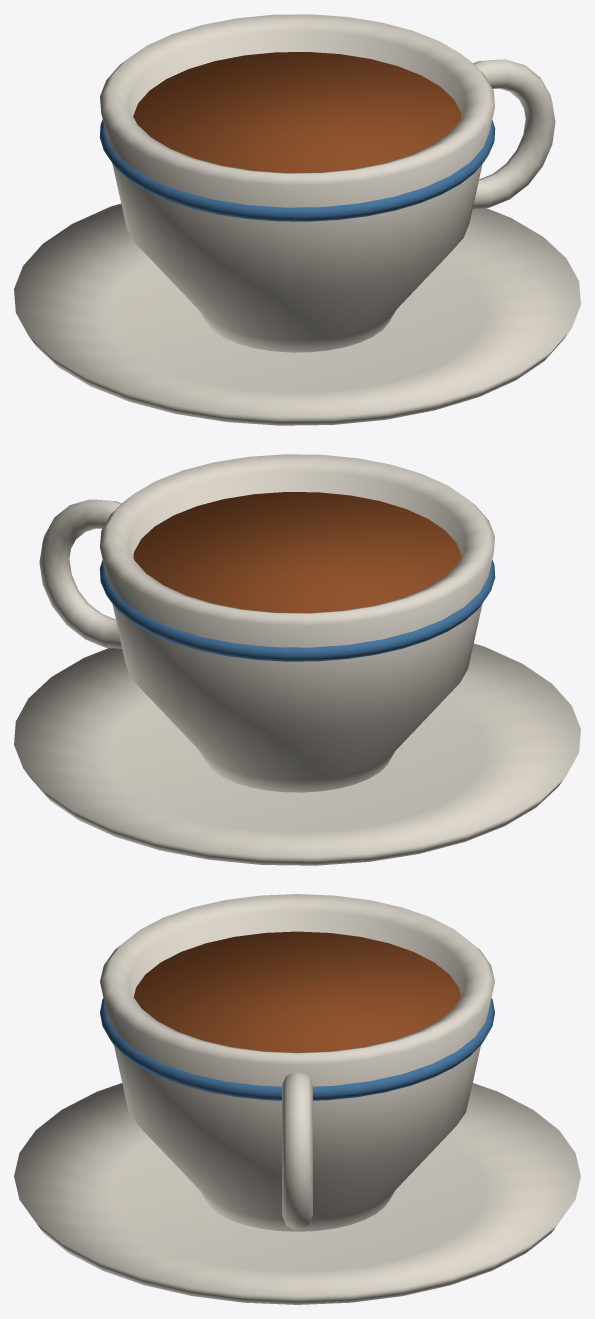
The model's file is teacup.glb.
3 views of the same model, one above another, from view 1: azimuth 30°, elevation 25°; view 2: azimuth 150°, elevation 25°; view 3: azimuth 270°, elevation 25° (orthographic).
Parts seen in each view (by area): view 1: teacup; view 2: teacup; view 3: teacup.
Boxes of the visible parts, x1,y1,x2,y2 form: teacup: [14, 14, 580, 425]; teacup: [14, 454, 580, 865]; teacup: [14, 894, 580, 1304].
Bounding box in the file's own units: 3.37 × 1.5 × 3.3.
